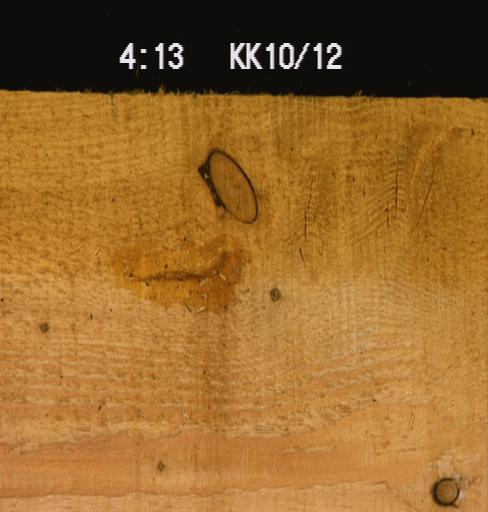dry_knot: (428, 474, 461, 508)
small_knot: (264, 284, 282, 304), (33, 316, 50, 336), (152, 455, 167, 472)
split: (380, 145, 403, 234), (299, 170, 318, 239), (295, 243, 306, 264)
